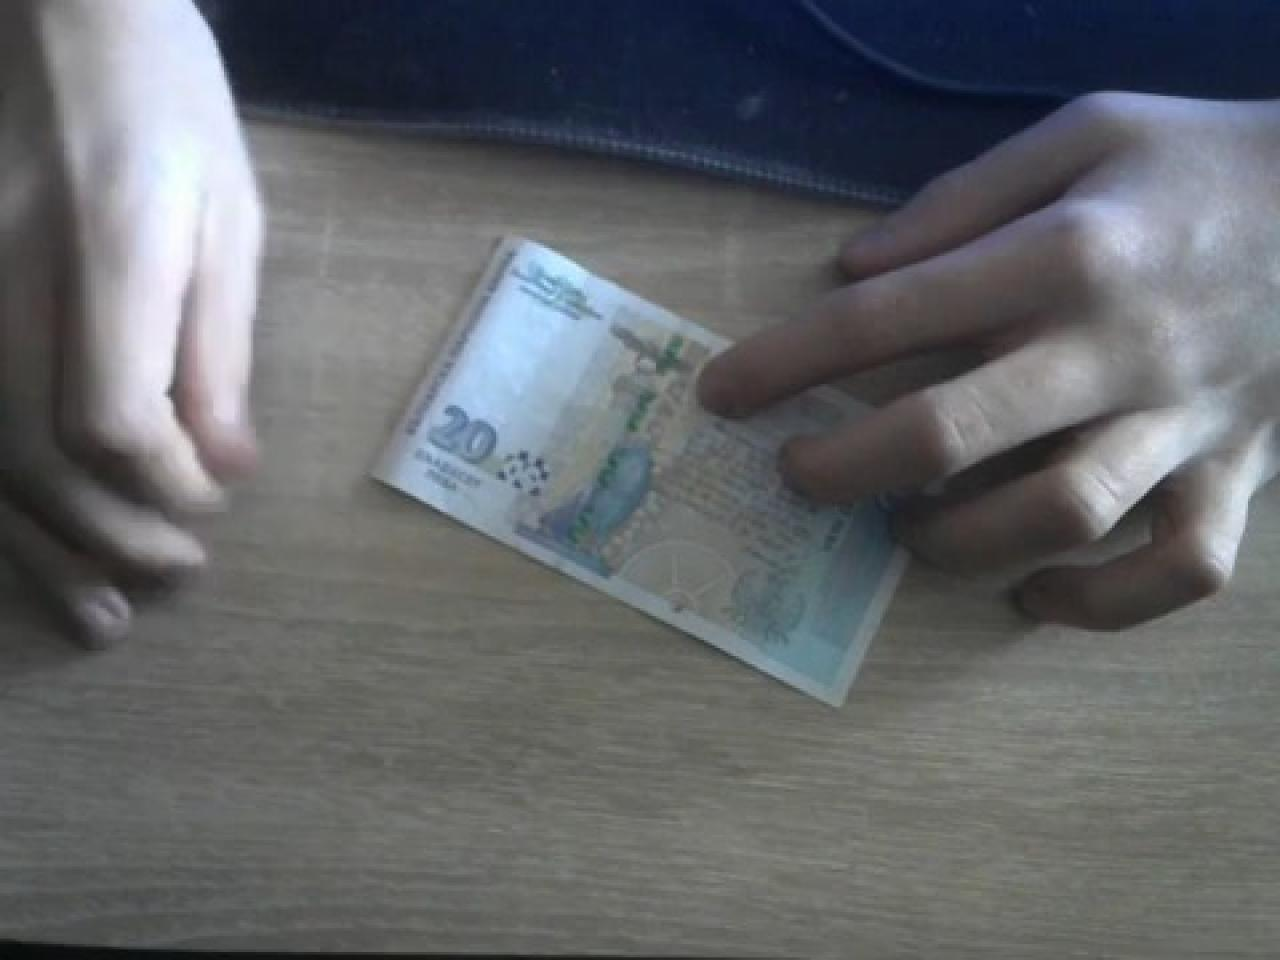20leva: (365, 230, 915, 710)
